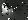person: (4, 4, 14, 16)
